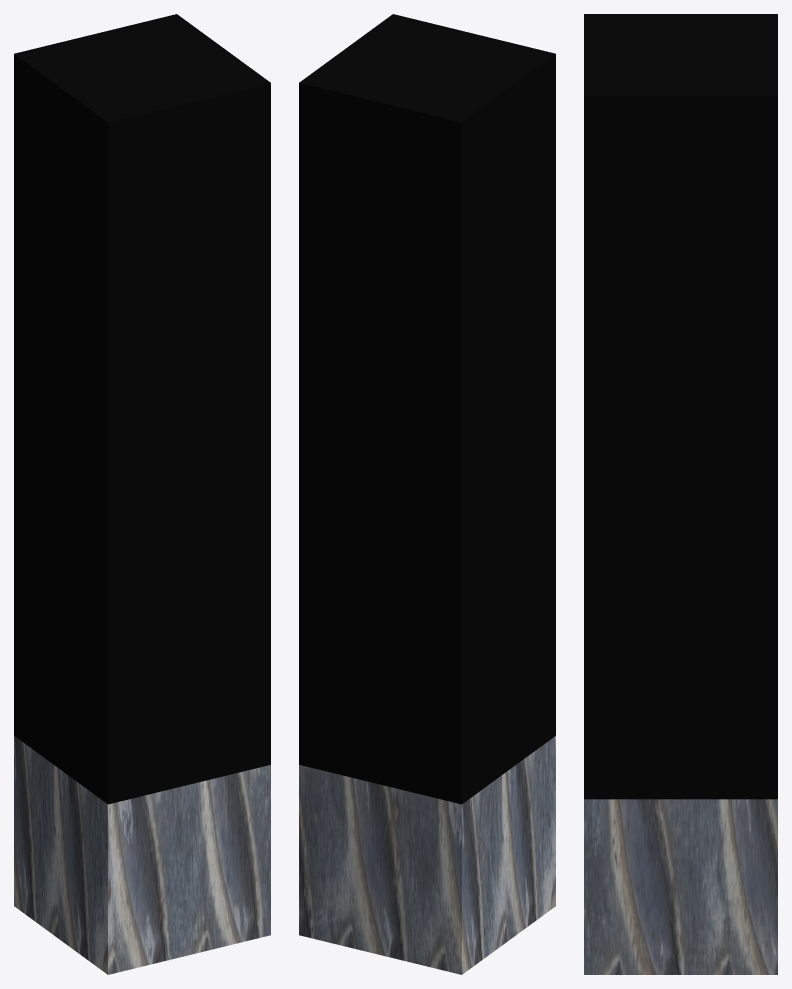
The model's file is GODOT_TDS_Wall_Panel_1.gltf.
The picture shows the model from 3 angles, left to right: view 1: azimuth 30°, elevation 25°; view 2: azimuth 150°, elevation 25°; view 3: azimuth 270°, elevation 25°; orthographic projection. The views are drawn at different scales.
Parts seen in each view (by area): view 1: Cube.001; view 2: Cube.001; view 3: Cube.001.
Boxes of the visible parts, bbox=[...] form: Cube.001: bbox=[14, 14, 270, 974]; Cube.001: bbox=[299, 14, 555, 974]; Cube.001: bbox=[584, 14, 777, 974].
Bounding box in the file's own units: 2 × 10 × 2.
2 materials, 1 textured.
